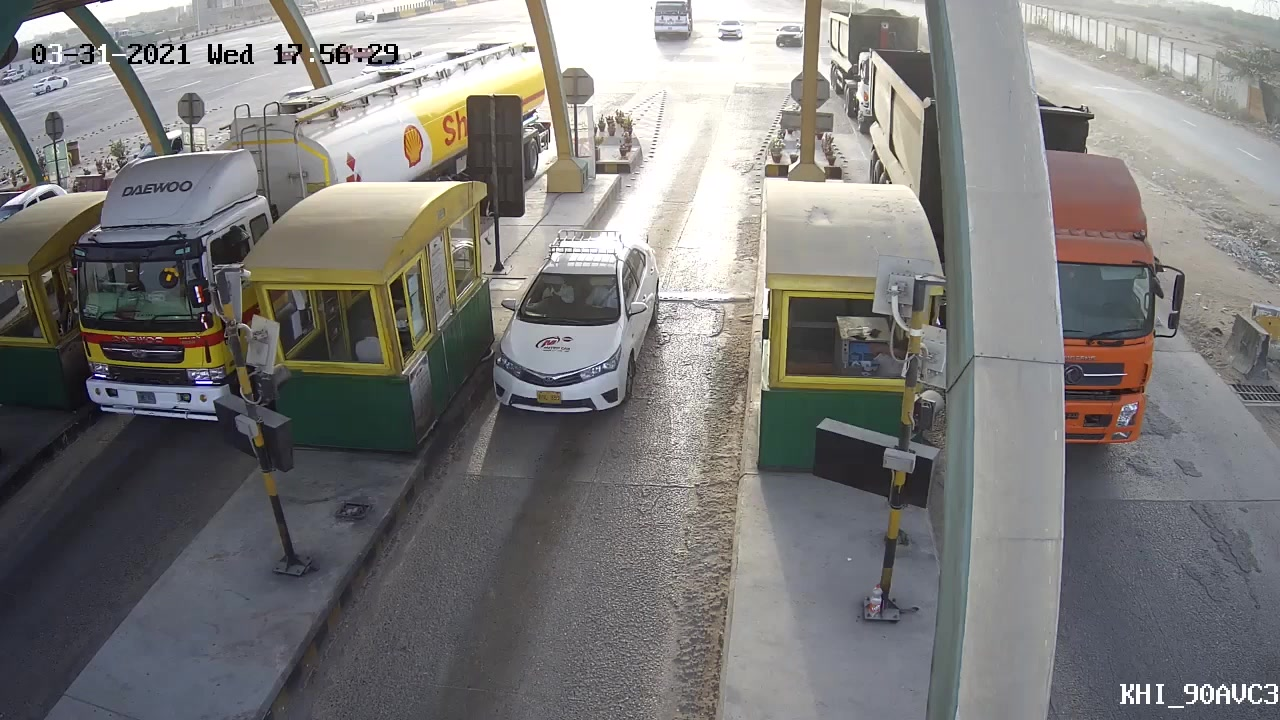F1: (480, 227, 666, 418)
